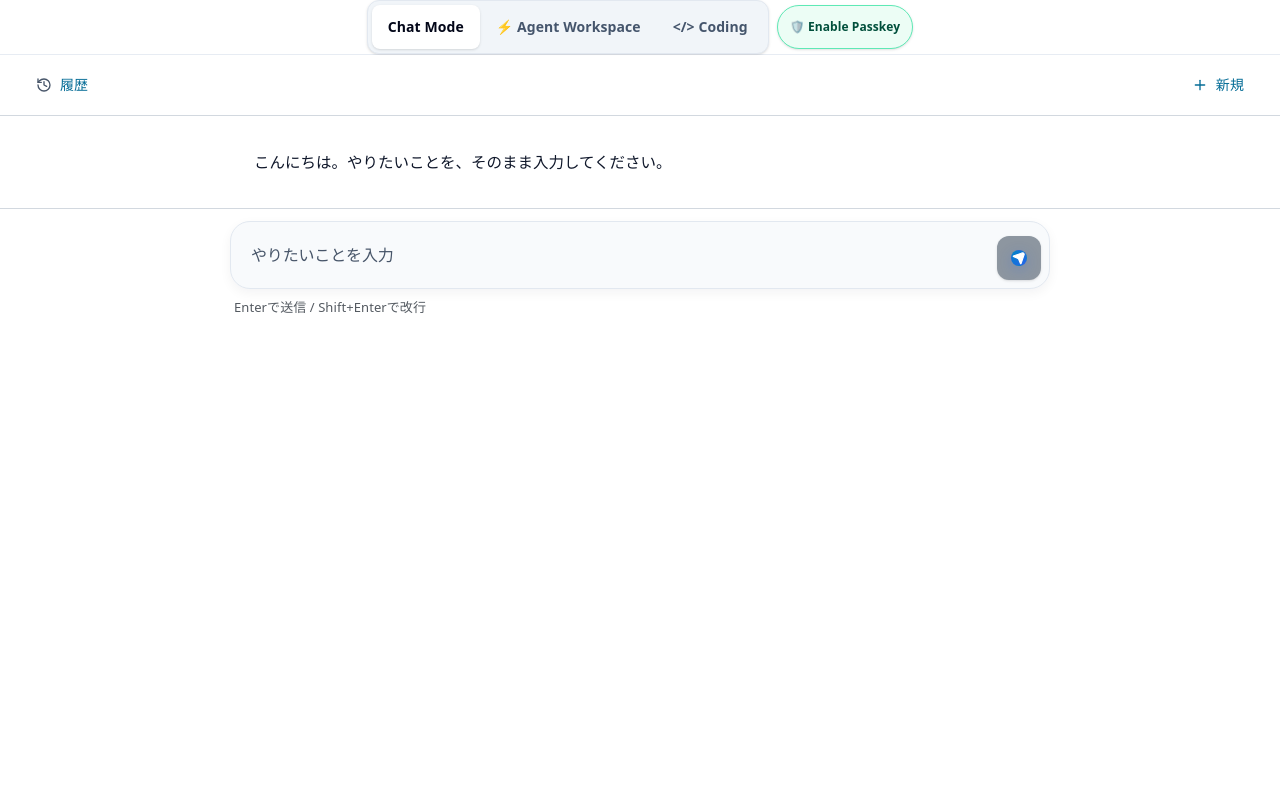
Test: UnifiedChat › labels provider-supplied evidence as not checked
Step 1. Type "資料を確認してください" into the text box with placeholder "やりたいことを入力" → (614, 255), box [239,230,989,280]
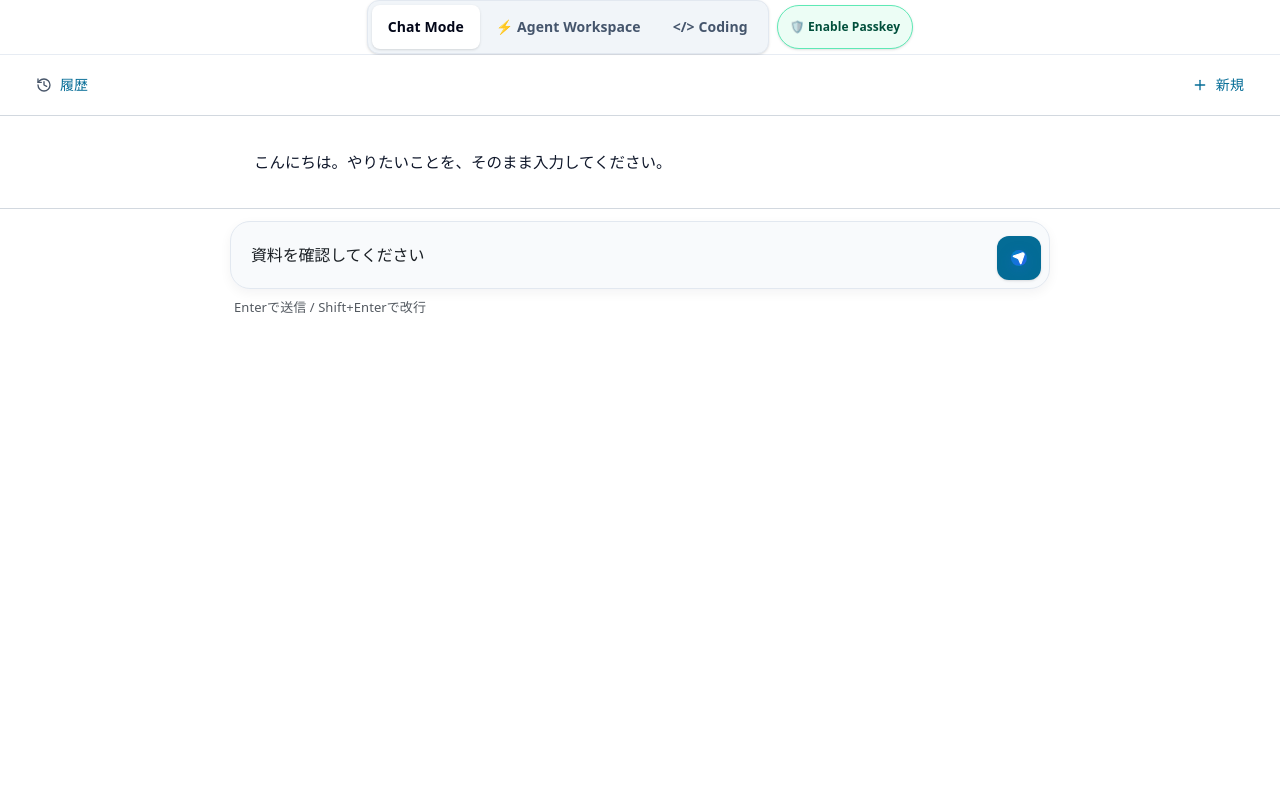
Step 2. Click the button named "依頼を送信" → click(1019, 258), box [997,236,1041,280]
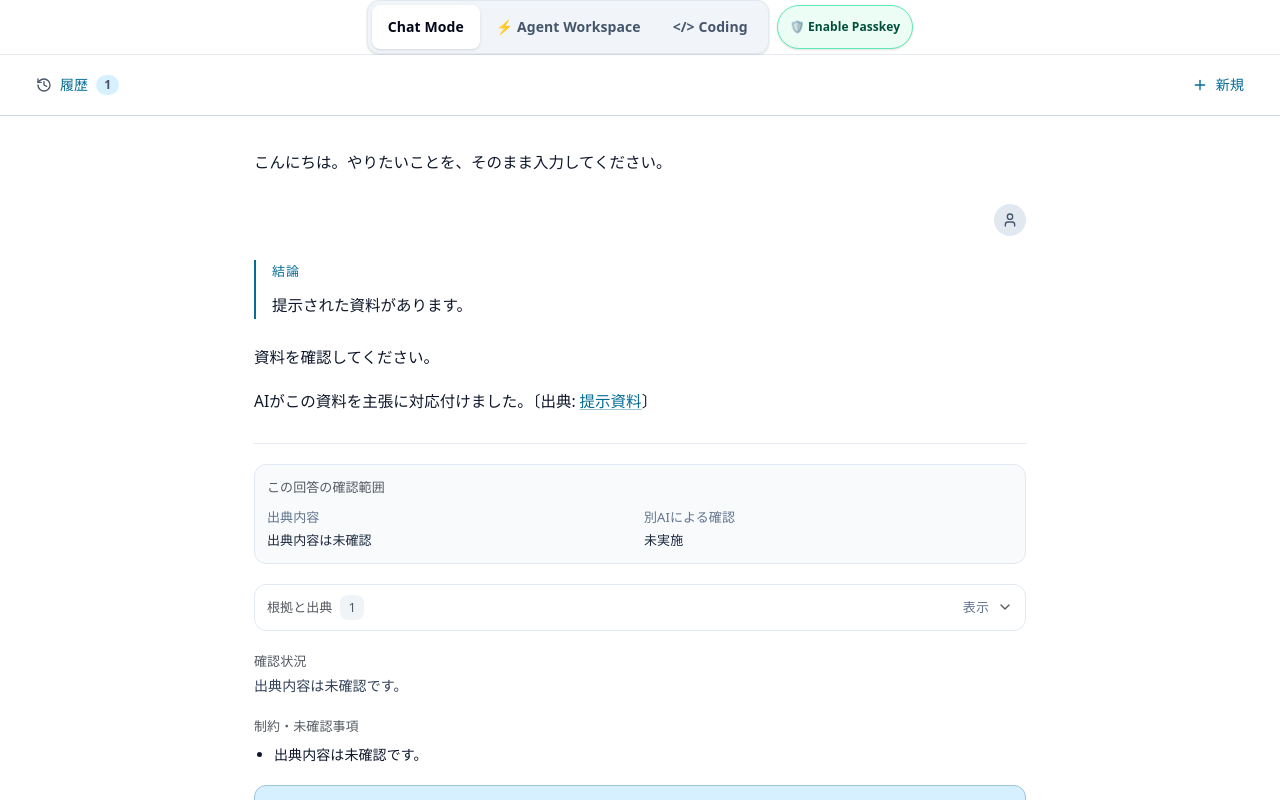
Result: the text "出典内容は未確認" is shown at [267,531,372,549]
